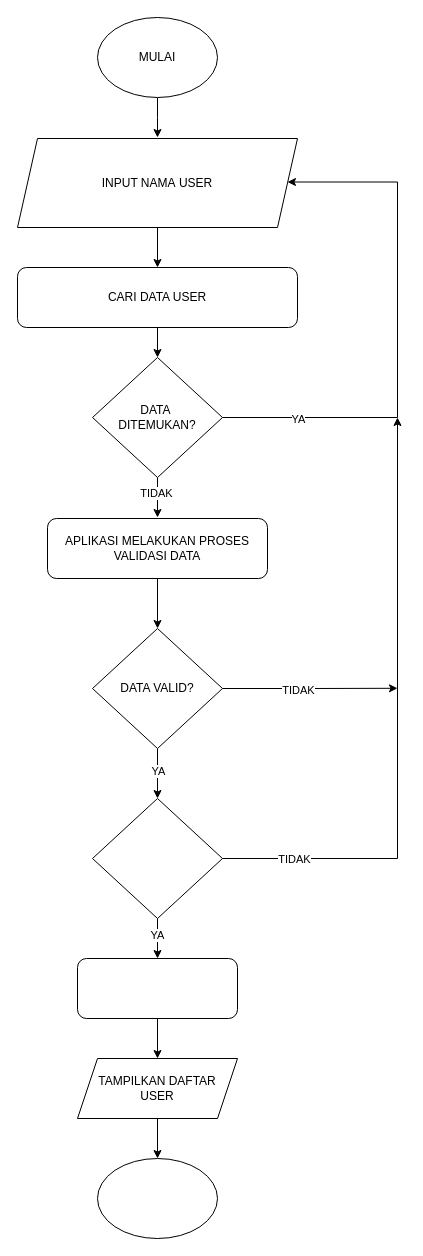
Some shapes in this 423 by 1256 pixel diagram are drawn without their labels. Each missing label, with the centre of its shape:
"PROSES SIMPAN DATA" belongs at point (157, 988).
"SELESAI" belongs at point (157, 1198).
"SIMPAN DATA?" belongs at point (157, 858).
